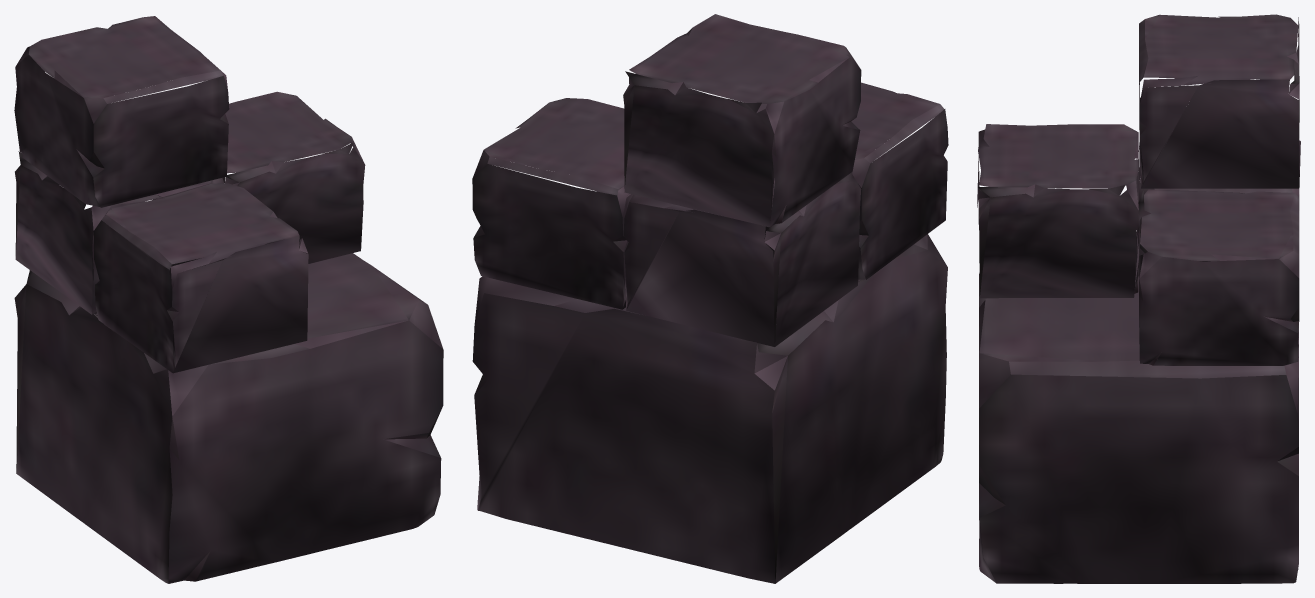
The model's file is env_ruin_corner-M6QZkw-O.glb.
The picture shows the model from 3 angles, left to right: view 1: azimuth 30°, elevation 25°; view 2: azimuth 150°, elevation 25°; view 3: azimuth 270°, elevation 25°; orthographic projection. The views are drawn at different scales.
Visible parts, largest first — view 1: env_ruin_corner_tall_hy_v2; view 2: env_ruin_corner_tall_hy_v2; view 3: env_ruin_corner_tall_hy_v2.
Part boxes in pixels (box(x1,y1,x2,y2)): env_ruin_corner_tall_hy_v2: box(14, 16, 443, 583); env_ruin_corner_tall_hy_v2: box(472, 14, 948, 583); env_ruin_corner_tall_hy_v2: box(977, 14, 1300, 583).
Bounding box in the file's own units: 1 × 1.51 × 1.01.
Materials: 1 (1 with a texture image).
